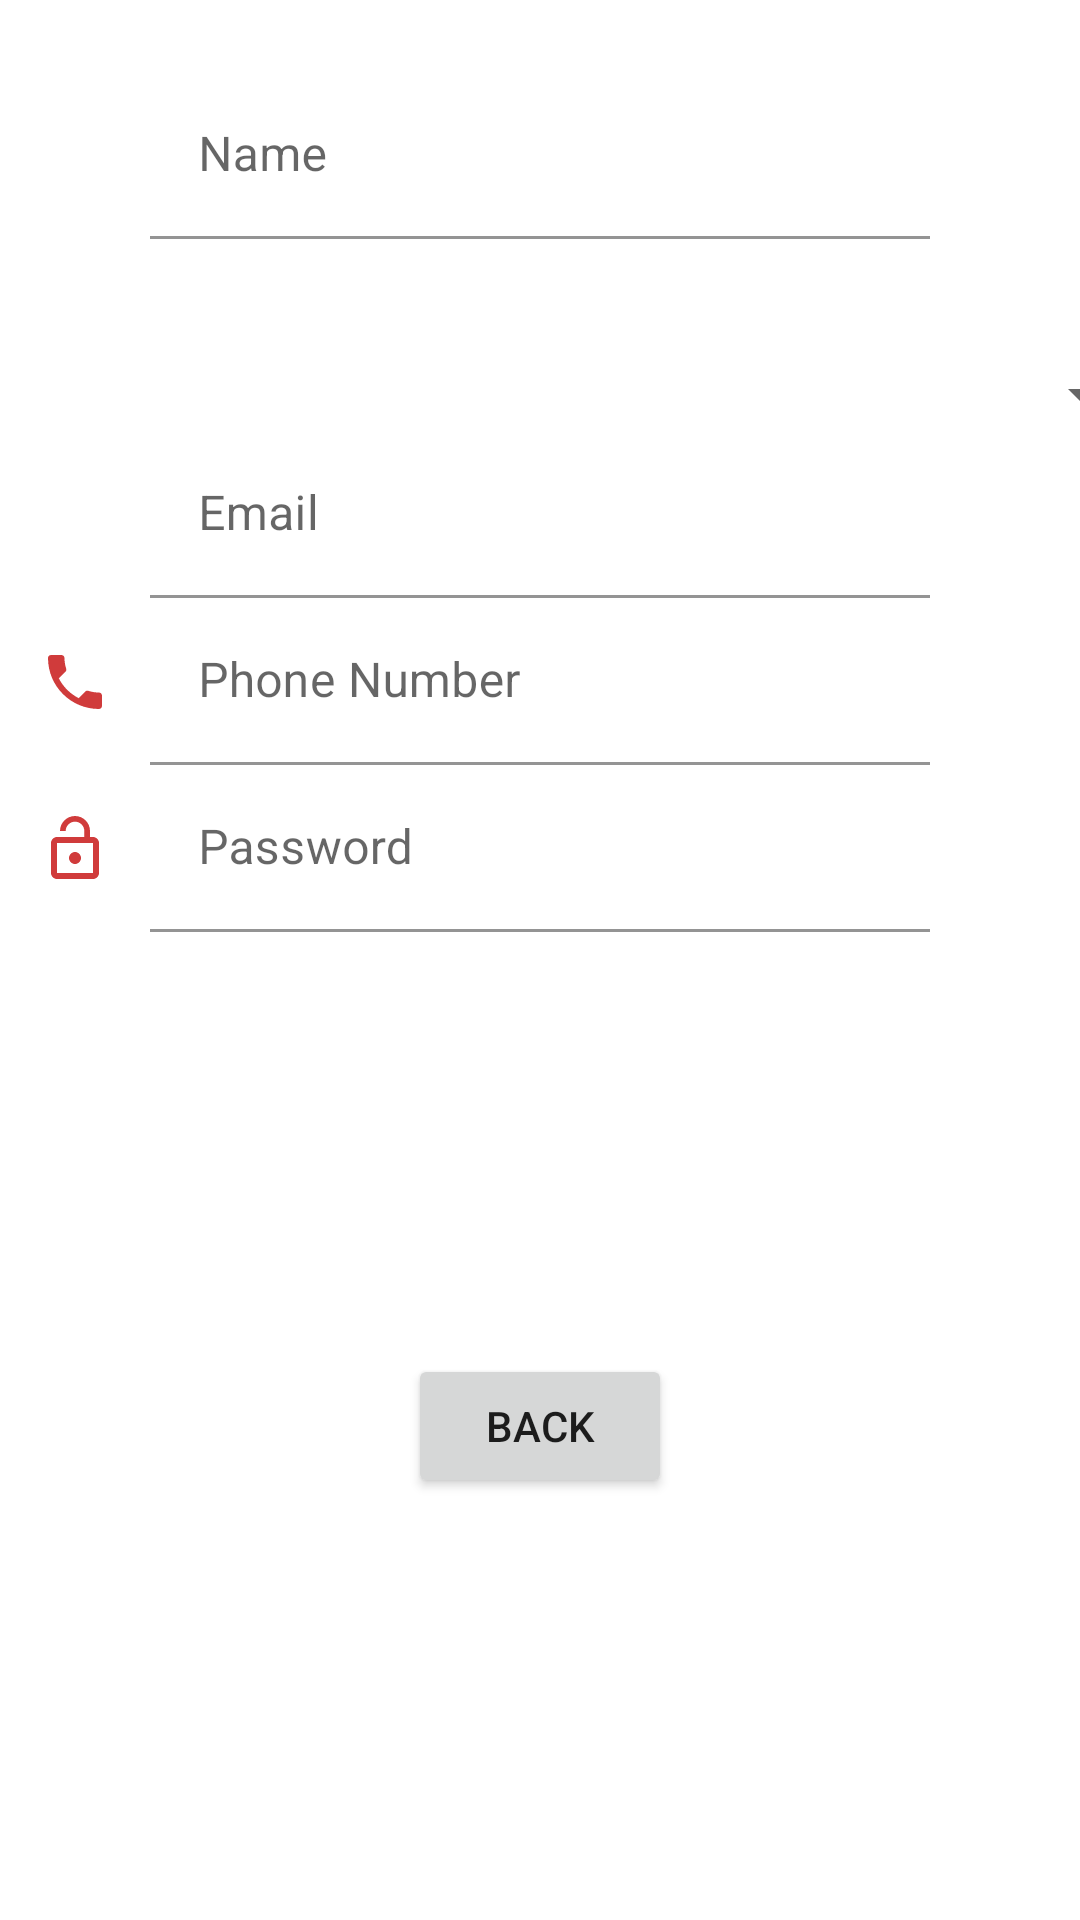

Locate icon controls on the screen. Image size 1080px x 1920px, boxes as (x1, y1, x2, y2).
lock open: (51, 816, 99, 879)
